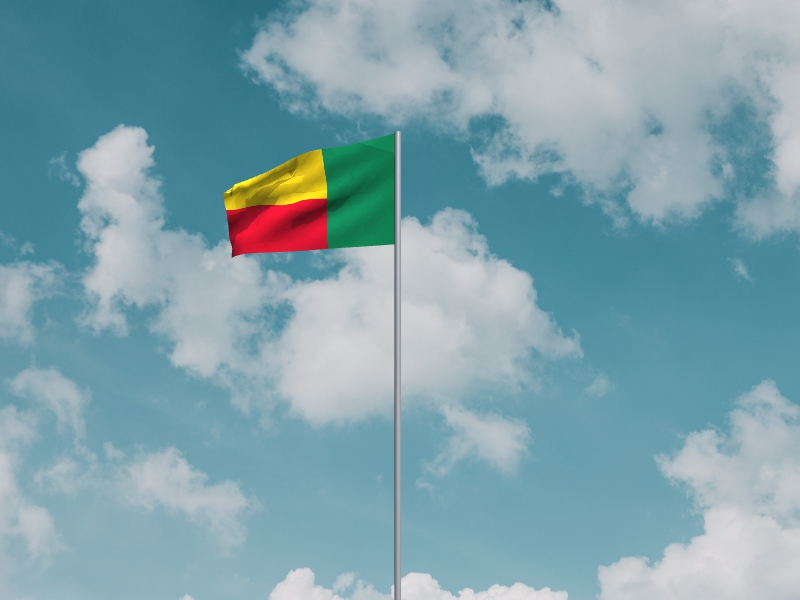bj: (222, 133, 396, 259)
